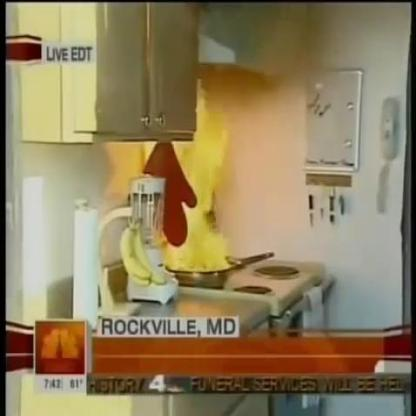fire: (145, 76, 237, 274)
